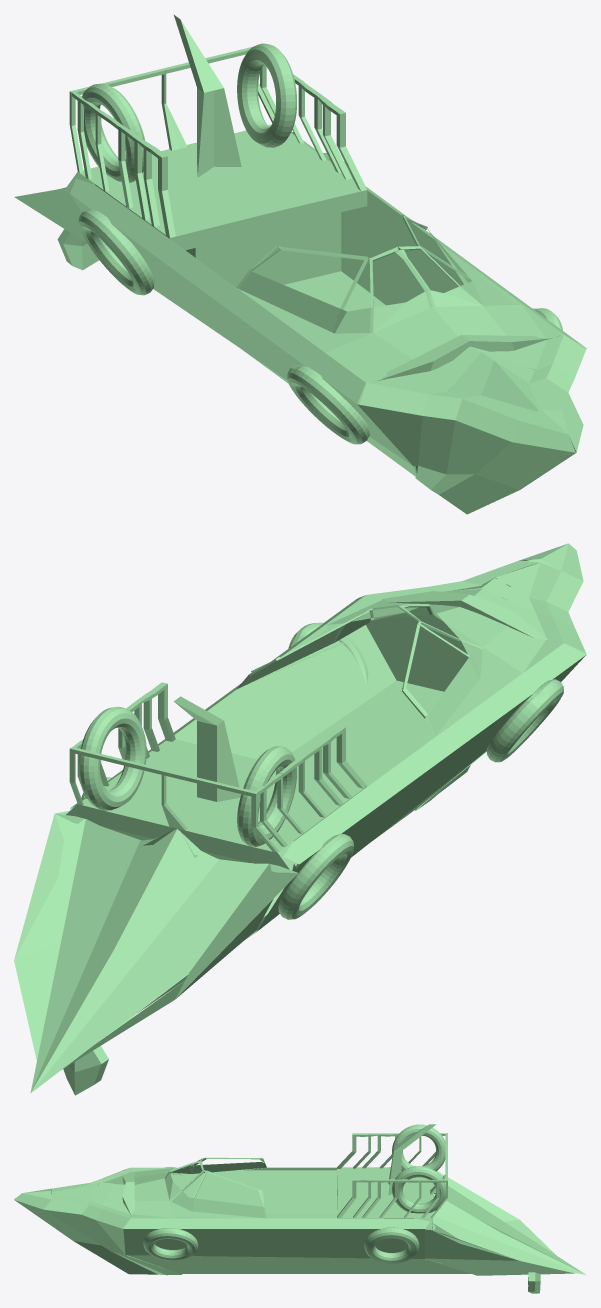
Rendered from speedboat1.fbx.
3 renders of one model, top to bottom at view 1: azimuth 30°, elevation 25°; view 2: azimuth 150°, elevation 25°; view 3: azimuth 270°, elevation 25°, orthographic. The views are drawn at different scales.
Visible parts, largest first — view 1: Boat.001; view 2: Boat.001; view 3: Boat.001.
Boxes of the visible parts, x1=… form: Boat.001: x1=14, y1=15, x2=586, y2=514; Boat.001: x1=14, y1=543, x2=586, y2=1095; Boat.001: x1=14, y1=1124, x2=585, y2=1293.
Size of the model in its own units: 705 by 845 by 2593.
